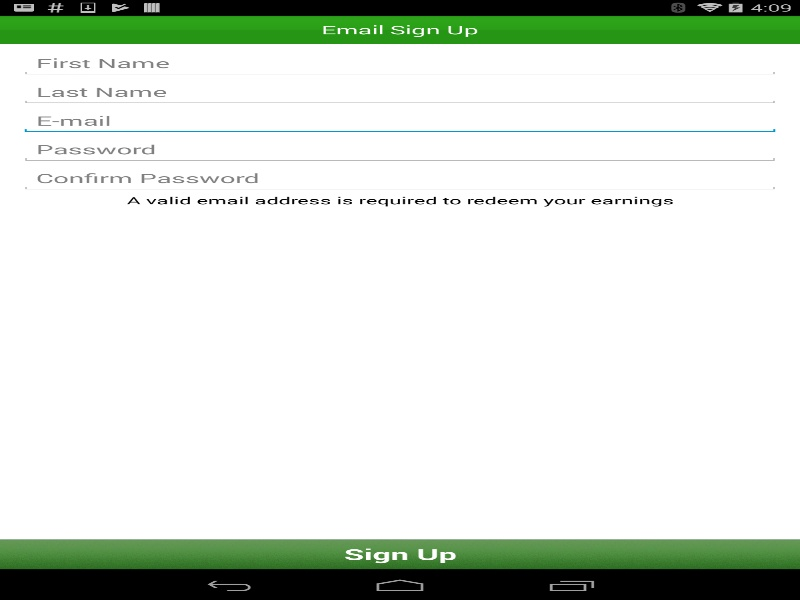Button: (0, 538, 800, 570)
Input: (20, 78, 780, 105), (20, 107, 780, 134), (20, 136, 780, 163), (20, 50, 780, 76), (20, 165, 780, 191)
